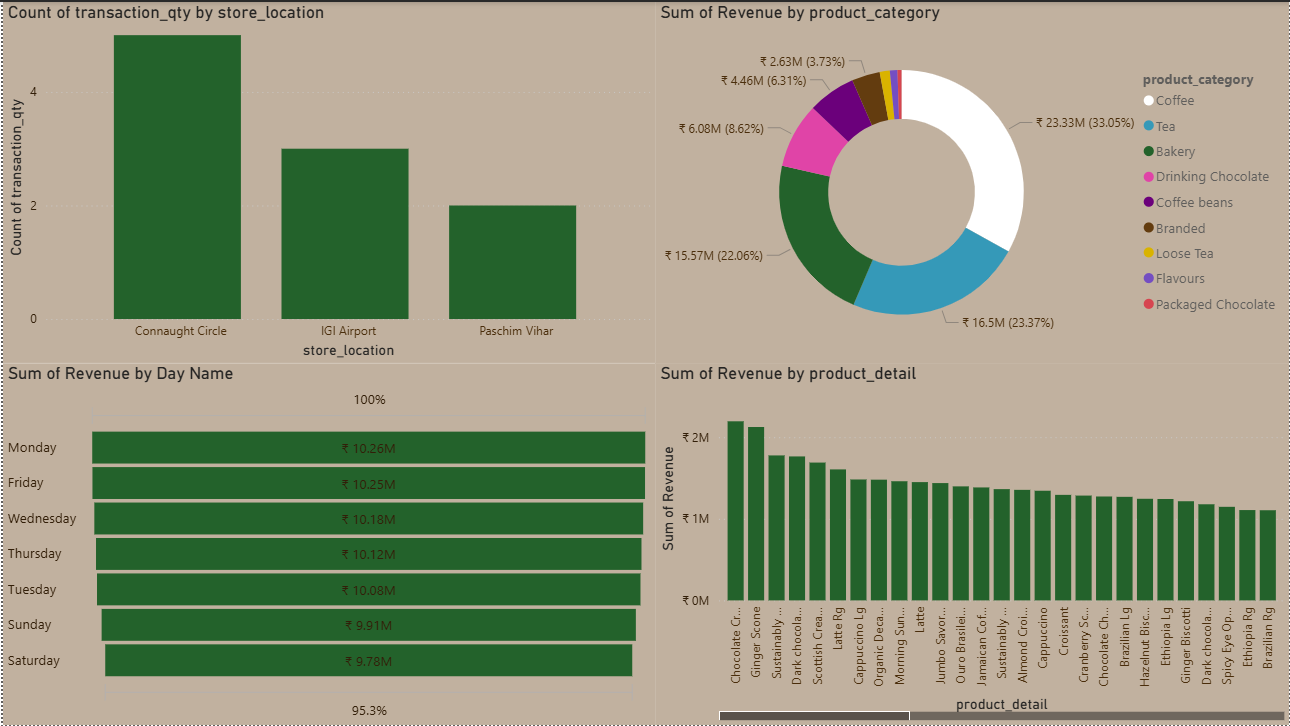

This screenshot's page, from the dashboard's own definition file:
{"tool":"powerbi","page":{"name":"Page 2","canvas":[1280,720],"ordinal":1},"visuals":[{"type":"columnChart","fields":{"Category":["orders_table.store_location"],"Y":["Count(orders_table.transaction_qty)"]},"box":[0,0,649.3,359.5],"z":0},{"type":"funnel","fields":{"Category":["orders_table.Day Name"],"Y":["Sum(orders_table.Revenue)"]},"box":[0,359.5,649.3,360.7],"z":1},{"type":"donutChart","fields":{"Category":["products_table.product_category"],"Y":["Sum(orders_table.Revenue)"]},"box":[649,0,631,360],"z":2},{"type":"clusteredColumnChart","fields":{"Category":["products_table.product_detail"],"Y":["Sum(orders_table.Revenue)"]},"box":[649,360,631,360],"z":3}]}

Visuals, with their boxes in screenshot pixels (x1, y1, x2, y2), scaled from the page's 1280x720 canvas onto the 1290x726 screenshot:
columnChart - orders_table.store_location x Count(orders_table.transaction_qty): x1=0 y1=0 x2=654 y2=362
funnel - orders_table.Day Name x Sum(orders_table.Revenue): x1=0 y1=362 x2=654 y2=725
donutChart - products_table.product_category x Sum(orders_table.Revenue): x1=654 y1=0 x2=1289 y2=363
clusteredColumnChart - products_table.product_detail x Sum(orders_table.Revenue): x1=654 y1=363 x2=1289 y2=725
